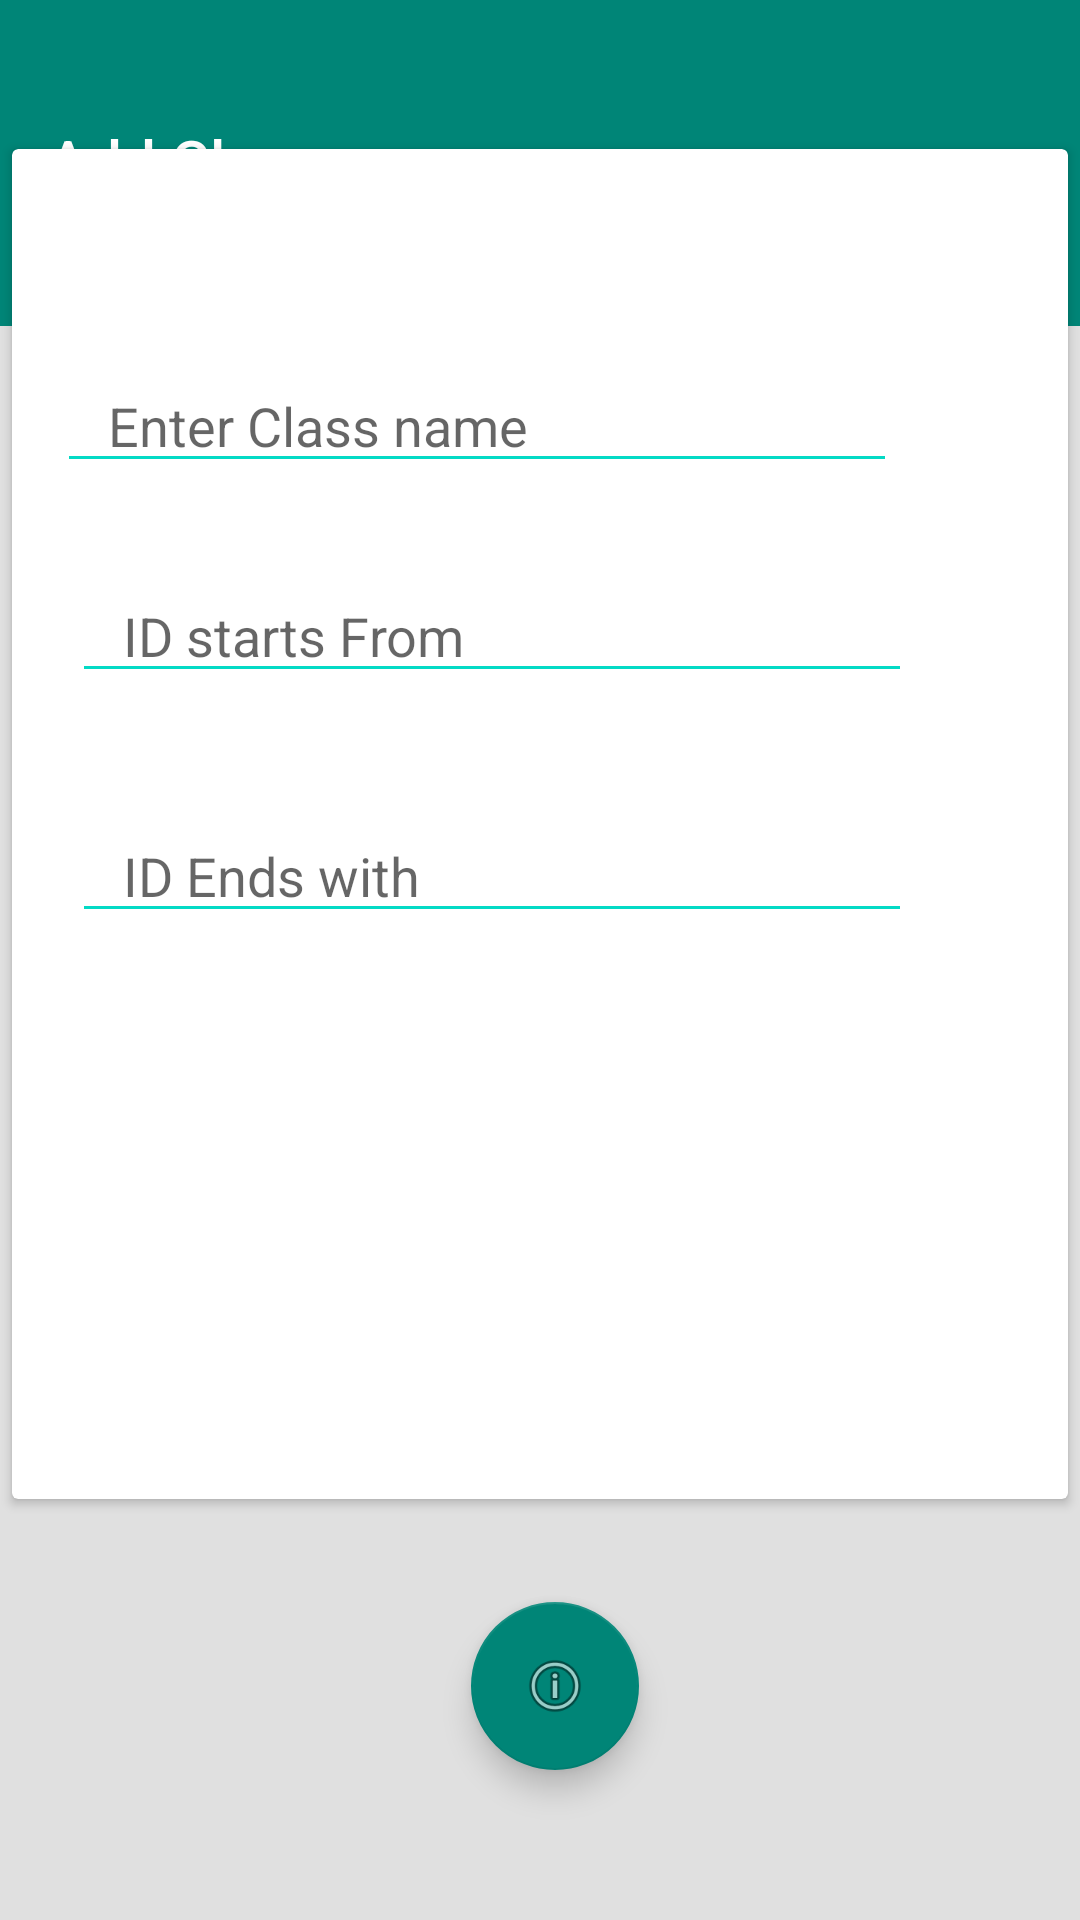

Screen size 1080 × 1920. Icon name, then its box in pixels as (x1, y1, x2, y2):
info details: (471, 1602, 639, 1770)
